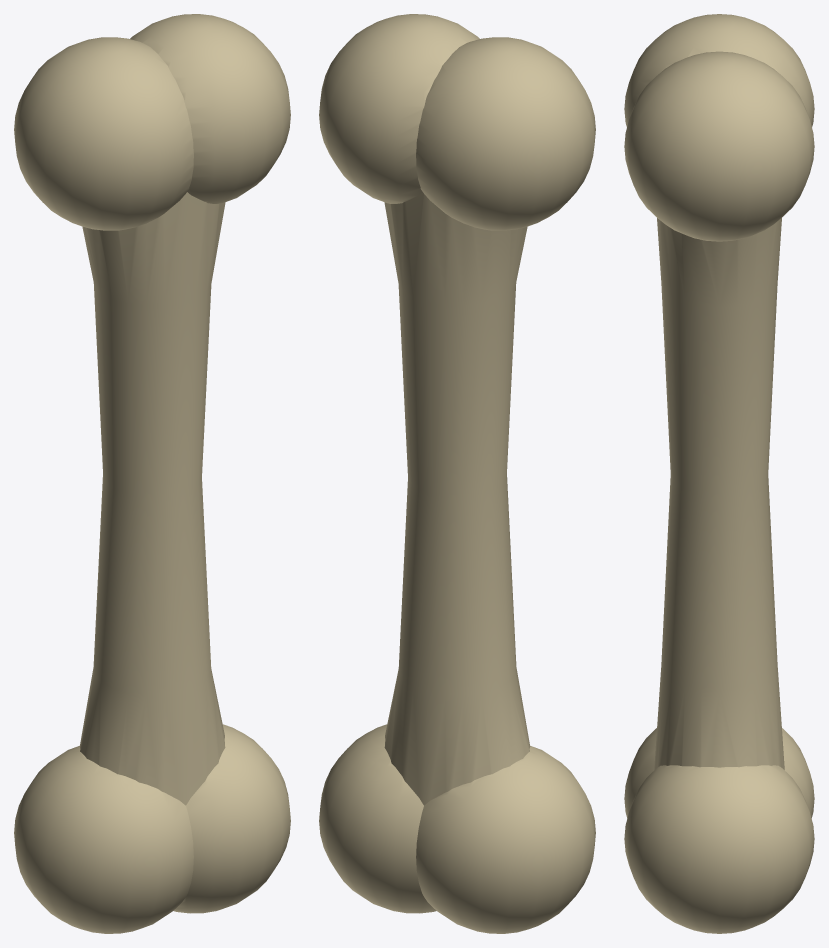
The model's file is bone.fbx.
3 renders of one model, left to right at view 1: azimuth 30°, elevation 25°; view 2: azimuth 150°, elevation 25°; view 3: azimuth 270°, elevation 25°, orthographic.
Visible parts, largest first — view 1: bone1; view 2: bone1; view 3: bone1.
Boxes of the visible parts, box(x1,y1,x2,y2) form: bone1: box(14, 14, 290, 933); bone1: box(319, 14, 595, 933); bone1: box(624, 14, 814, 933).
Bounding box in the file's own units: 0.0783 × 0.2619 × 0.0522.
